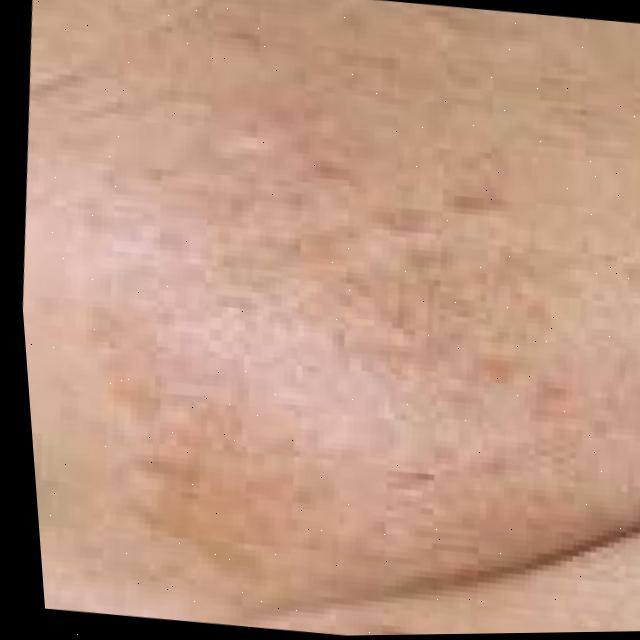Melasma: (38, 108, 640, 632)
